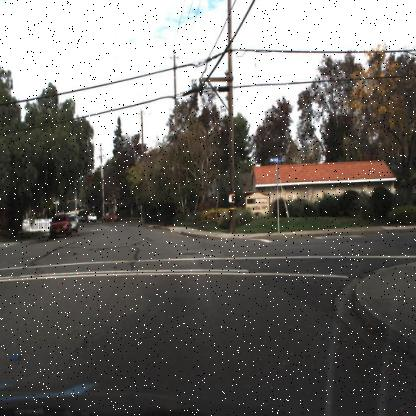car: (46, 212, 73, 239), (67, 209, 80, 236)
